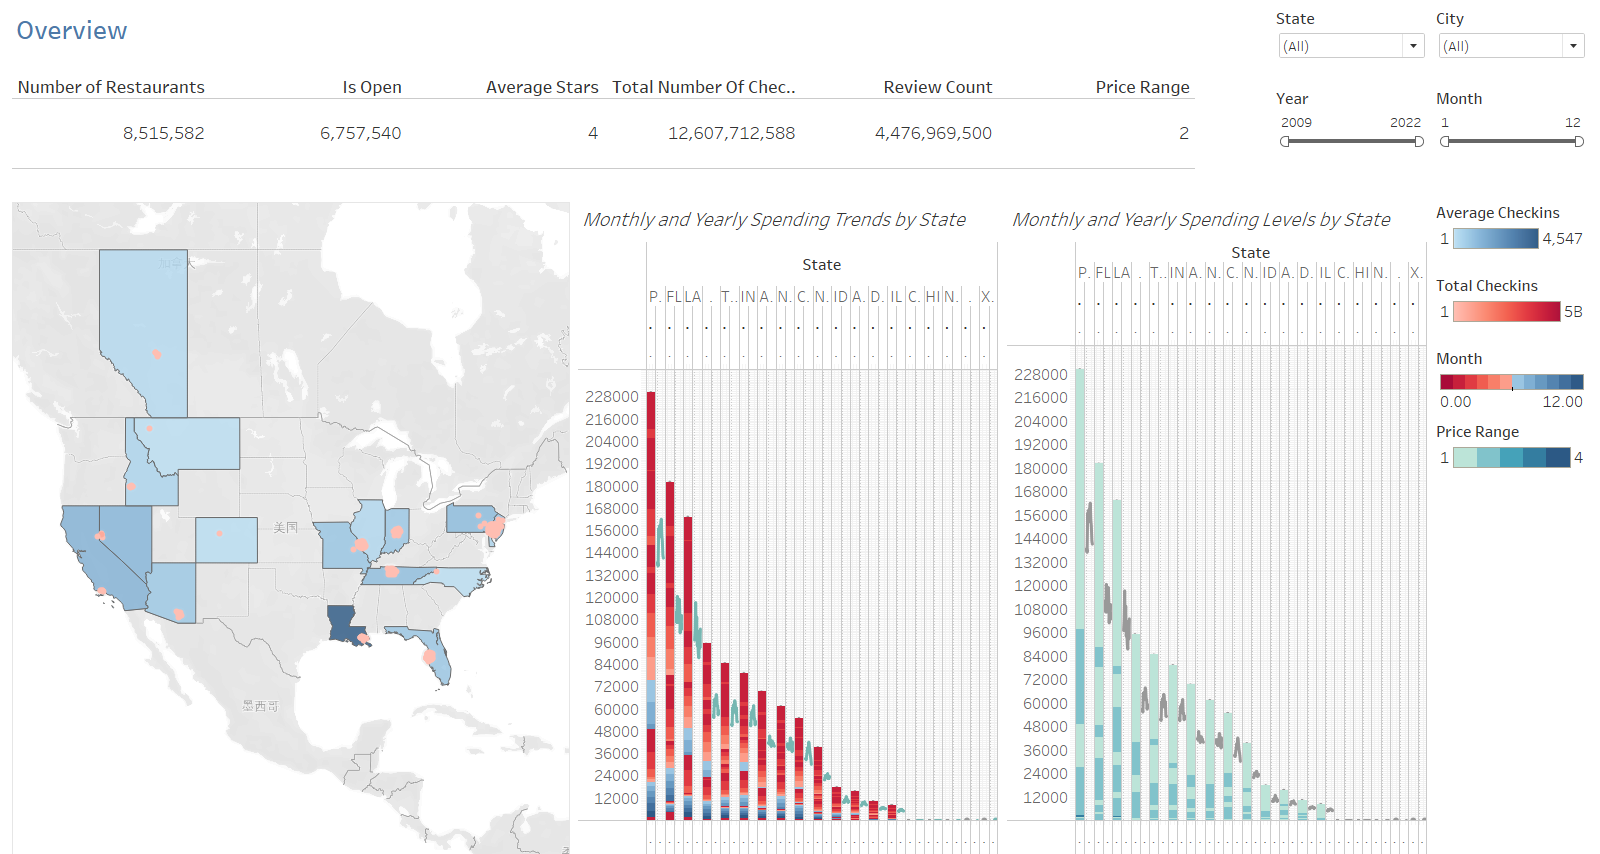

Layout of this report page (visuals, bound fields, positions):
{"tool":"tableau","page":{"name":"Overview","canvas":[1600,900],"ordinal":0},"visuals":[{"type":"worksheet","title":"Overview Table (2)","mark":"Automatic","box":[8,8,1264,194]},{"type":"filter","title":"Map","param":"[federated.04s5m5o0ixxofv187frpv17251t0].[none:state:nk]","box":[1272,8,160,80]},{"type":"filter","title":"Map","param":"[federated.04s5m5o0ixxofv187frpv17251t0].[none:city:nk]","box":[1432,8,160,80]},{"type":"filter","title":"Monthly and Yearly Spending Trends by State","param":"[federated.04s5m5o0ixxofv187frpv17251t0].[none:year:qk]","box":[1272,88,160,114]},{"type":"filter","title":"Monthly and Yearly Spending Levels by State","param":"[federated.04s5m5o0ixxofv187frpv17251t0].[none:month:qk]","box":[1432,88,160,114]},{"type":"worksheet","title":"Map","mark":"Multipolygon","box":[8,202,566,690]},{"type":"worksheet","title":"Monthly and Yearly Spending Trends by State","mark":"Automatic","rows":["business_id"],"cols":["state","year","year","month"],"box":[574,202,429,690]},{"type":"worksheet","title":"Monthly and Yearly Spending Levels by State","mark":"Automatic","rows":["business_id"],"cols":["state","year","year","month"],"box":[1003,202,429,690]},{"type":"legend","title":"Map","param":"[federated.04s5m5o0ixxofv187frpv17251t0].[avg:total_number_of_checkin:qk]","box":[1432,202,160,73]},{"type":"legend","title":"Map","param":"[federated.04s5m5o0ixxofv187frpv17251t0].[sum:total_number_of_checkin:qk]","box":[1432,275,160,73]},{"type":"legend","title":"Monthly and Yearly Spending Trends by State","param":"[federated.04s5m5o0ixxofv187frpv17251t0].[none:month:qk]","box":[1432,348,160,73]},{"type":"legend","title":"Monthly and Yearly Spending Levels by State","param":"[federated.04s5m5o0ixxofv187frpv17251t0].[none:RestaurantsPriceRange2:qk]","box":[1432,421,160,73]}]}

Visuals, with their boxes on the page's 1600x900 design canvas (x1, y1, x2, y2). These are canvas units, not pixel positions in the 1600x854 screenshot, which may show the page scaled, cropped or inside an application window:
"Overview Table (2)" worksheet: <box>8,8,1272,202</box>
"Map" filter: <box>1272,8,1432,88</box>
"Map" filter: <box>1432,8,1592,88</box>
"Monthly and Yearly Spending Trends by State" filter: <box>1272,88,1432,202</box>
"Monthly and Yearly Spending Levels by State" filter: <box>1432,88,1592,202</box>
"Map" worksheet (Multipolygon marks): <box>8,202,574,892</box>
"Monthly and Yearly Spending Trends by State" worksheet: <box>574,202,1003,892</box>
"Monthly and Yearly Spending Levels by State" worksheet: <box>1003,202,1432,892</box>
"Map" legend: <box>1432,202,1592,275</box>
"Map" legend: <box>1432,275,1592,348</box>
"Monthly and Yearly Spending Trends by State" legend: <box>1432,348,1592,421</box>
"Monthly and Yearly Spending Levels by State" legend: <box>1432,421,1592,494</box>
